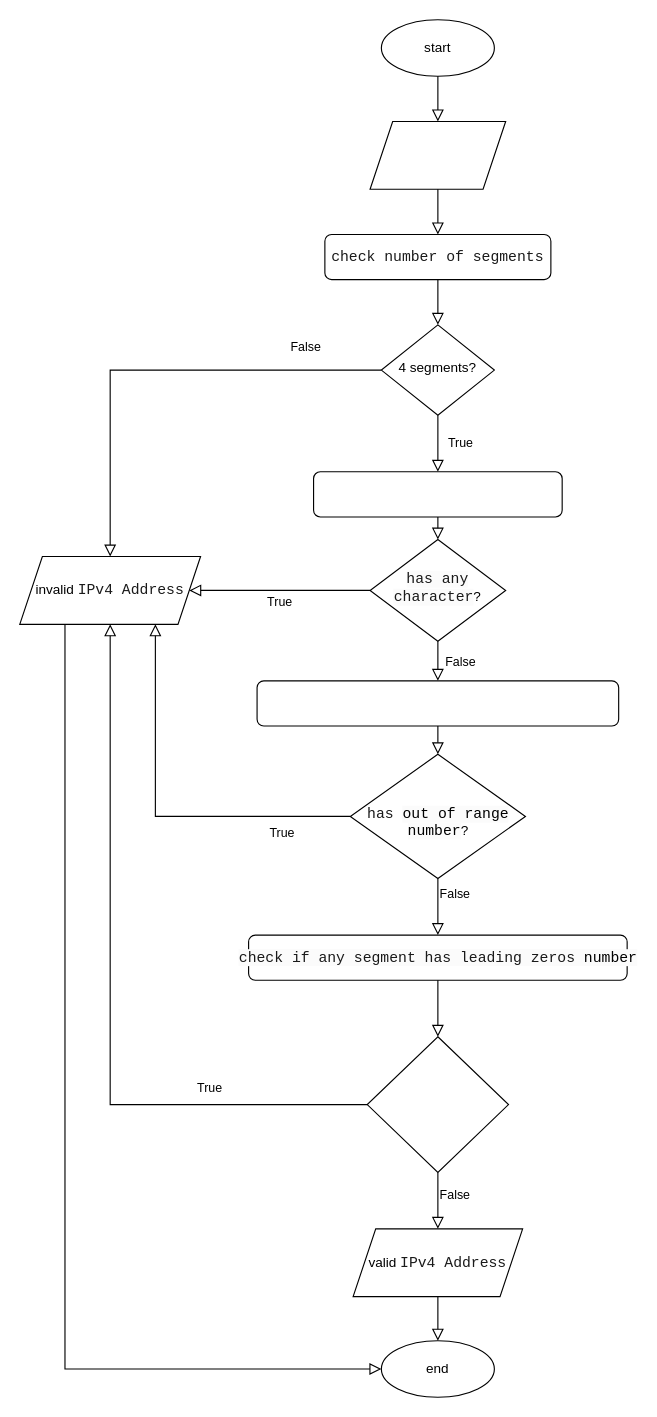
The diagram is 657 pixels wide and 1417 high, and some of its shapes have lost their labels. The centre of each missing label's shape, as x and y in pixels:
"check if any segment has out of range number" goes at (437,703).
"check if it has any character" goes at (437,494).
"has leading zeros number ?" goes at (437,1104).
"IPv4 Address" goes at (437,154).
